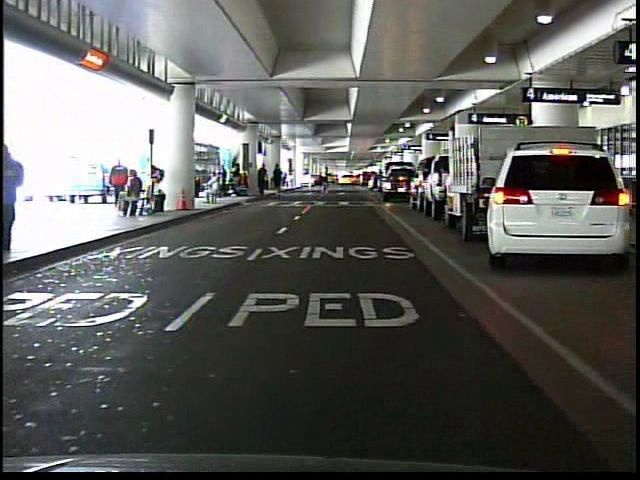person: (4, 142, 29, 256), (203, 171, 225, 207), (315, 164, 334, 195)
